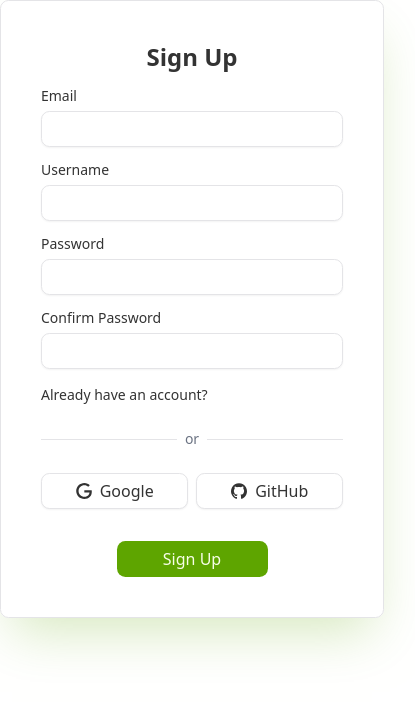
SignUpForm component test › Form validation › Should show error if email is invalid
The image size is (415, 702).
Type "invalid_format" into the field with test id "signUp-email-field".
click(192, 129); type("invalid_format")  # box [41,111,343,147]
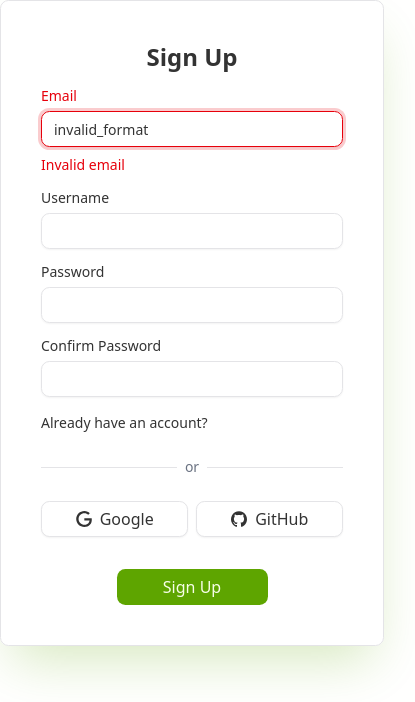
Now the text "Invalid email" is shown, box [41,155,125,174]
